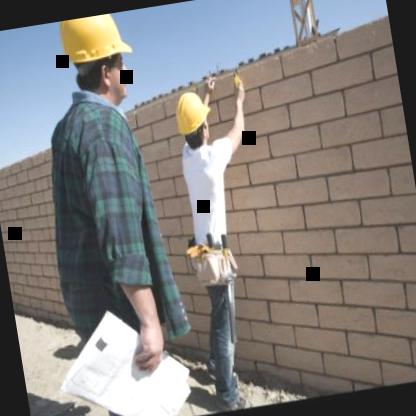helmet: (52, 10, 146, 120), (170, 83, 216, 154)
